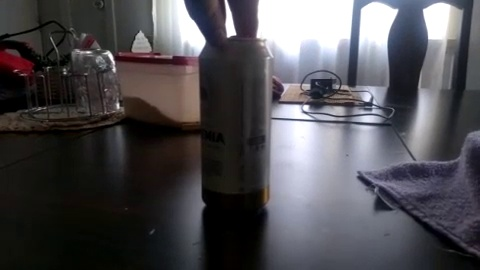bohemia: (182, 29, 289, 224)
